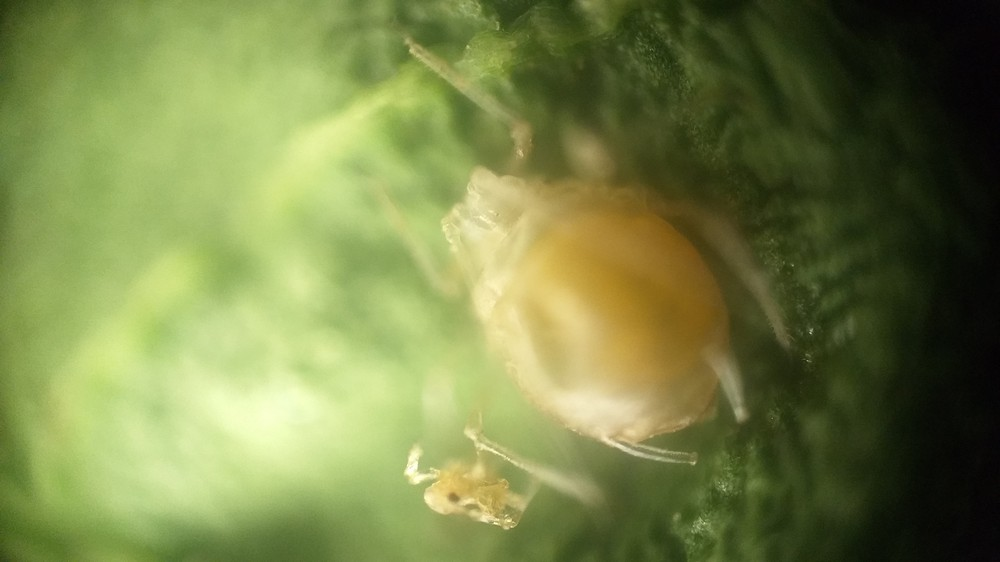Pulgon: (379, 66, 832, 491)
